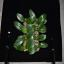leaf: (29, 10, 37, 22), (36, 14, 48, 22), (14, 35, 26, 43), (14, 21, 24, 30), (14, 43, 25, 51), (27, 46, 38, 54), (26, 16, 36, 24), (37, 21, 45, 31), (17, 14, 26, 22), (25, 38, 32, 48), (38, 34, 46, 41), (27, 32, 36, 38), (38, 43, 48, 48), (27, 26, 34, 32), (22, 26, 27, 34), (32, 24, 37, 31), (37, 43, 41, 48), (36, 35, 41, 39)
